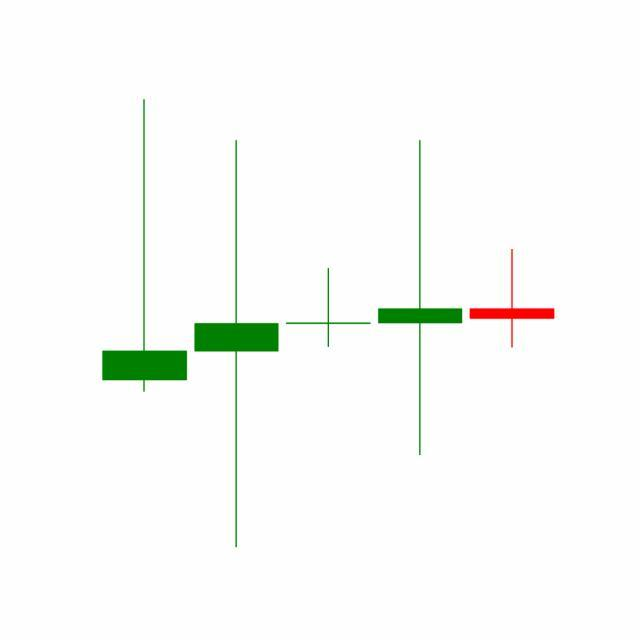Spinning Top: (466, 248, 559, 350)
